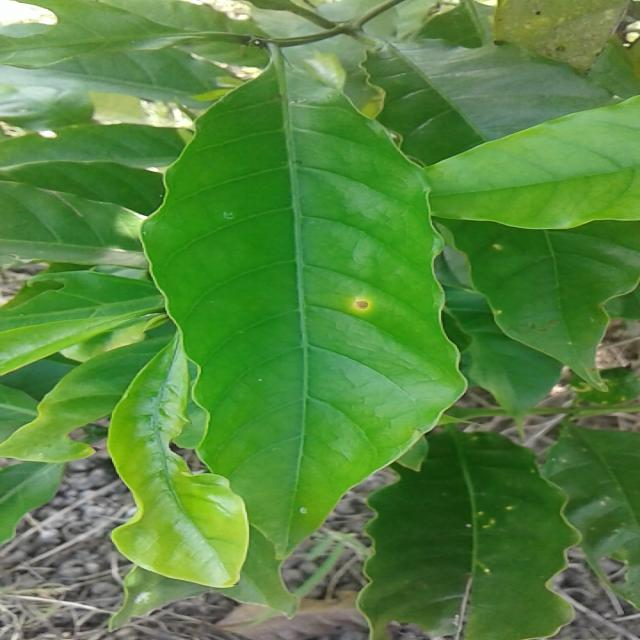Enfermedad-Roya: (141, 62, 468, 616)
